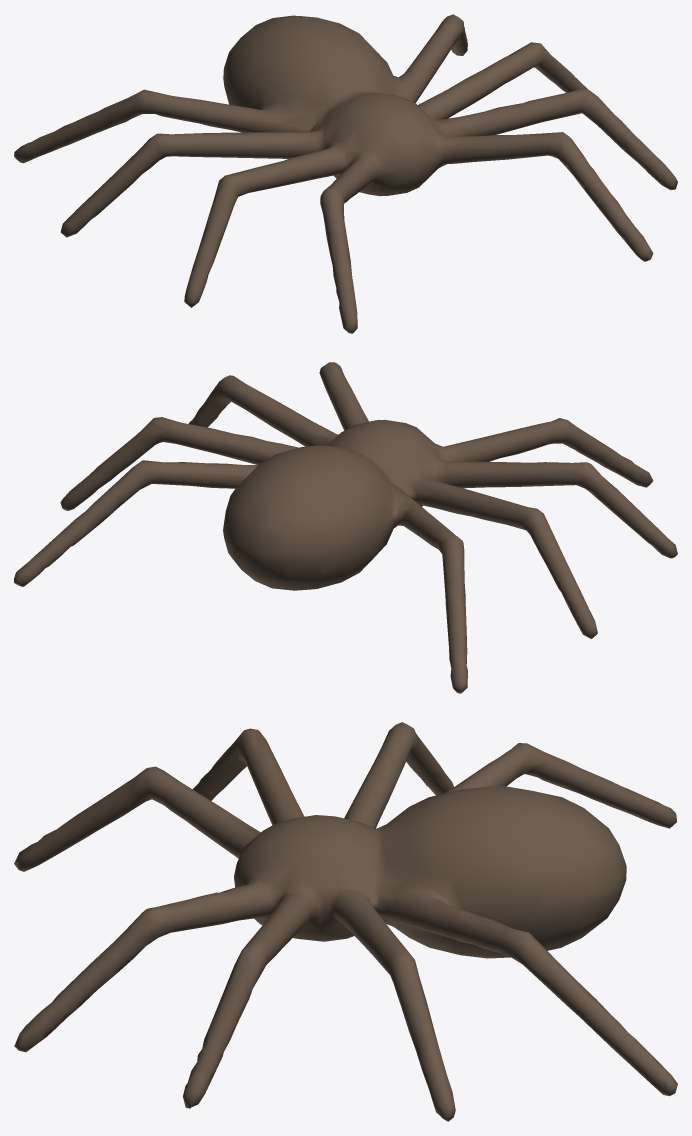
The model's file is NEW_RECOVERY_008_LOD1.glb.
3 renders of one model, top to bottom at view 1: azimuth 30°, elevation 25°; view 2: azimuth 150°, elevation 25°; view 3: azimuth 270°, elevation 25°, orthographic. The views are drawn at different scales.
Visible parts, largest first — view 1: NEW_RECOVERY_008_spider_LOD1; view 2: NEW_RECOVERY_008_spider_LOD1; view 3: NEW_RECOVERY_008_spider_LOD1.
Part boxes in pixels (<box>): NEW_RECOVERY_008_spider_LOD1: <box>14,14,677,333</box>; NEW_RECOVERY_008_spider_LOD1: <box>14,362,677,693</box>; NEW_RECOVERY_008_spider_LOD1: <box>14,722,677,1121</box>.
Size of the model in its own units: 3.42 by 0.8 by 2.92.
